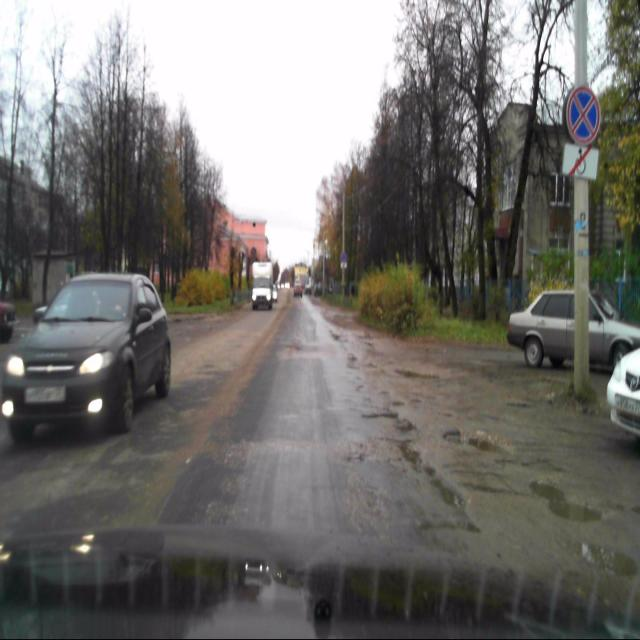road sign: (561, 143, 600, 180)
